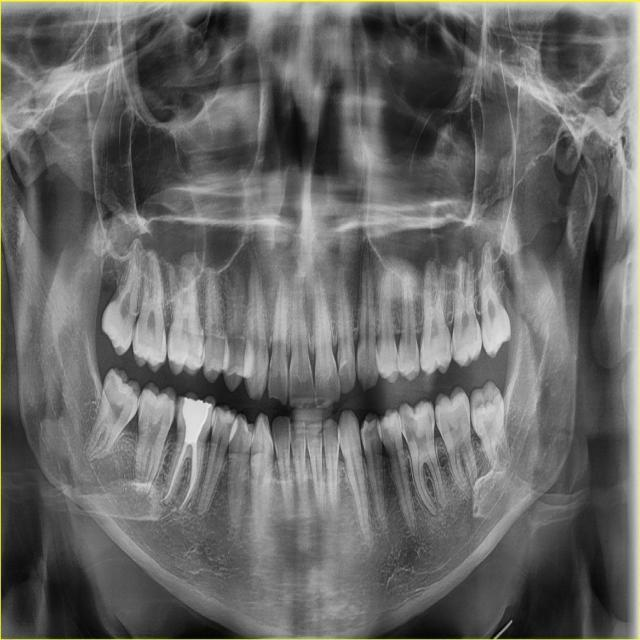74: (163, 441, 189, 502), (180, 442, 202, 511)
NucleOSS Implant: (174, 395, 213, 447)
Sterngold Implant: (396, 402, 422, 443), (185, 343, 201, 358), (427, 411, 435, 428), (435, 411, 441, 426), (224, 419, 232, 429), (419, 350, 424, 362), (416, 351, 420, 364)
